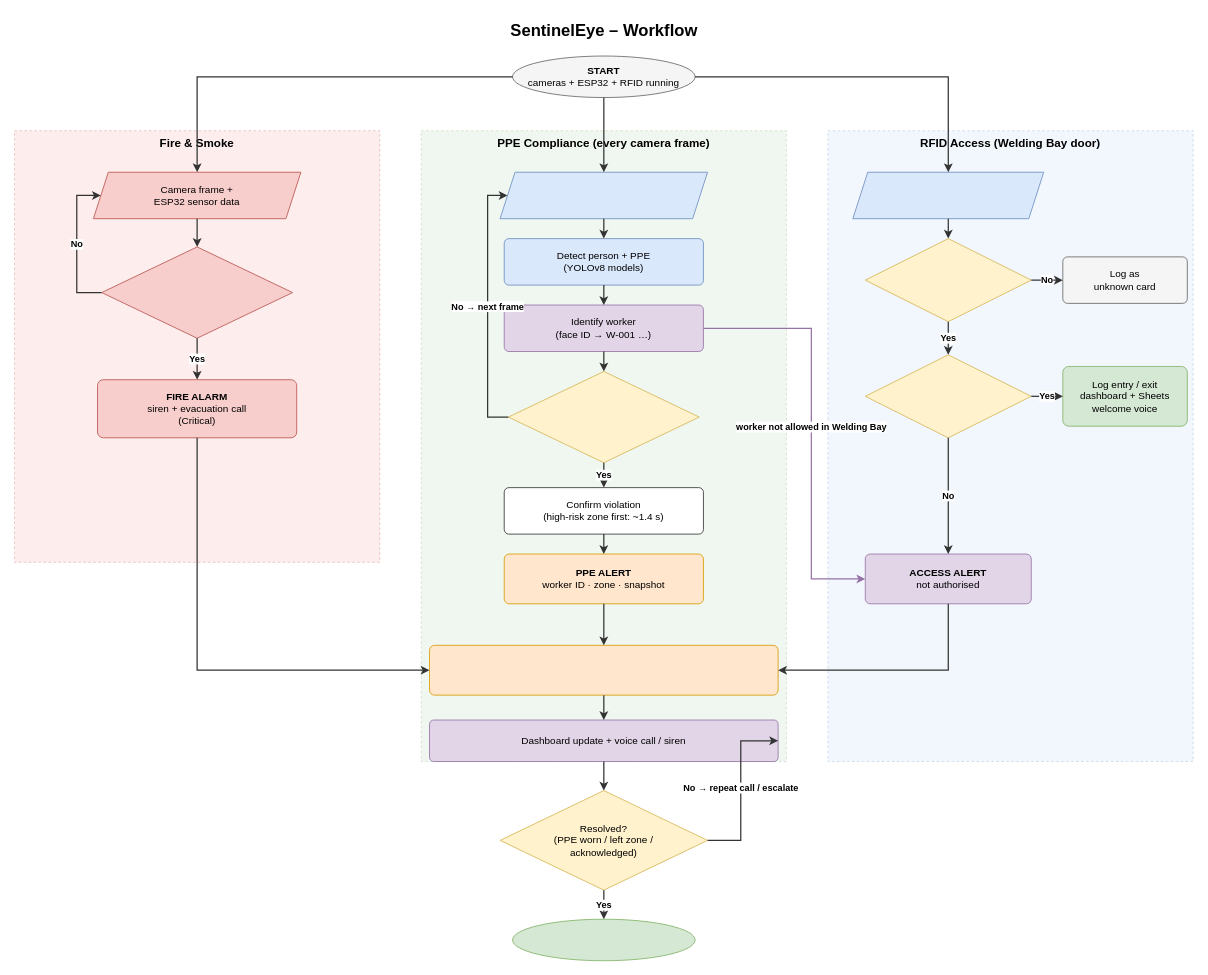
This 1208x975 diagram has some shape labels left out. The box of each missing label's shape, as (x1, y1, x2, y2) in pixels:
Allowed in Welding Bay?: (864, 354, 1031, 438)
END alert closed & logged: (512, 918, 695, 961)
Fire / smoke? camera OR sensor: (101, 246, 293, 338)
Priority Alert Manager Fire → Welding Bay → Assembly → Warehouse: (429, 644, 778, 695)
Read camera frame: (499, 171, 708, 219)
Registered card?: (864, 238, 1031, 322)
Required PPE missing?: (508, 371, 699, 463)
Worker taps RFID card: (852, 171, 1044, 219)
